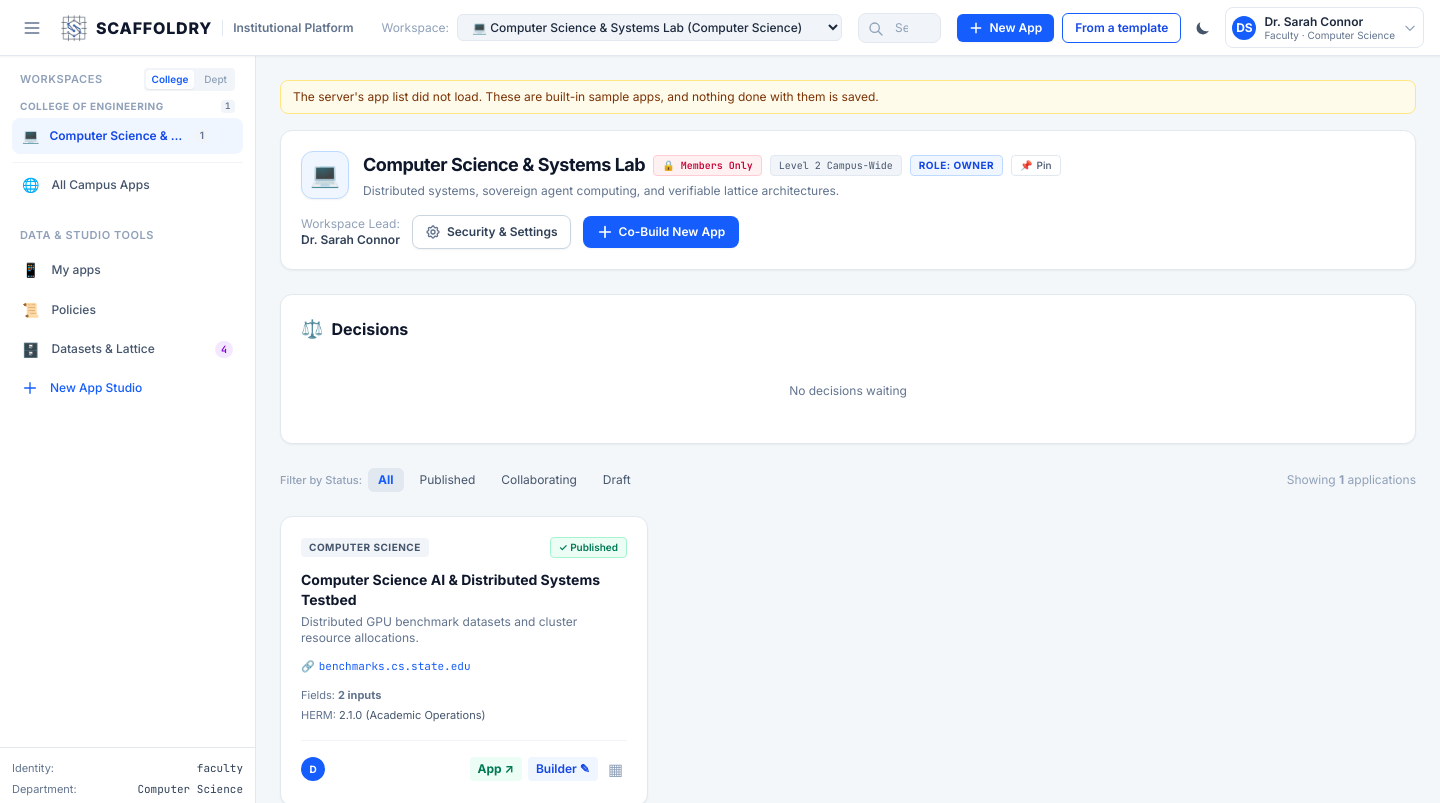
Test: New App creates the app on the server, and says only what happened › asks the server, with no made-up domain, and reports success only after it answers 201
Step 1. Click the button "New App" → (1006, 28), box x1=958 y1=14 x2=1054 y2=42
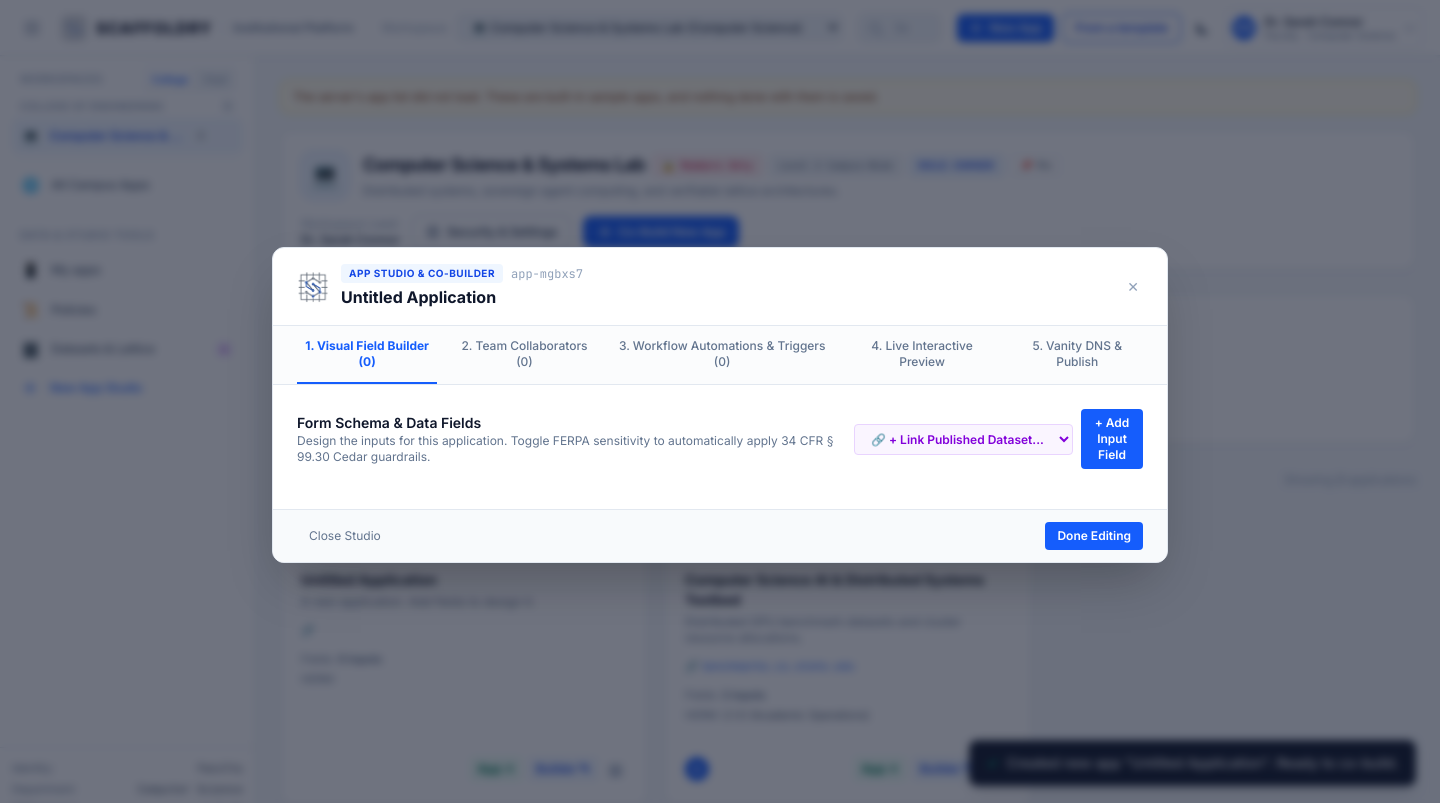
Check: the text "✓ Created new app \"Untitled Application\". Ready to co-build." is shown, box x1=969 y1=740 x2=1416 y2=786
